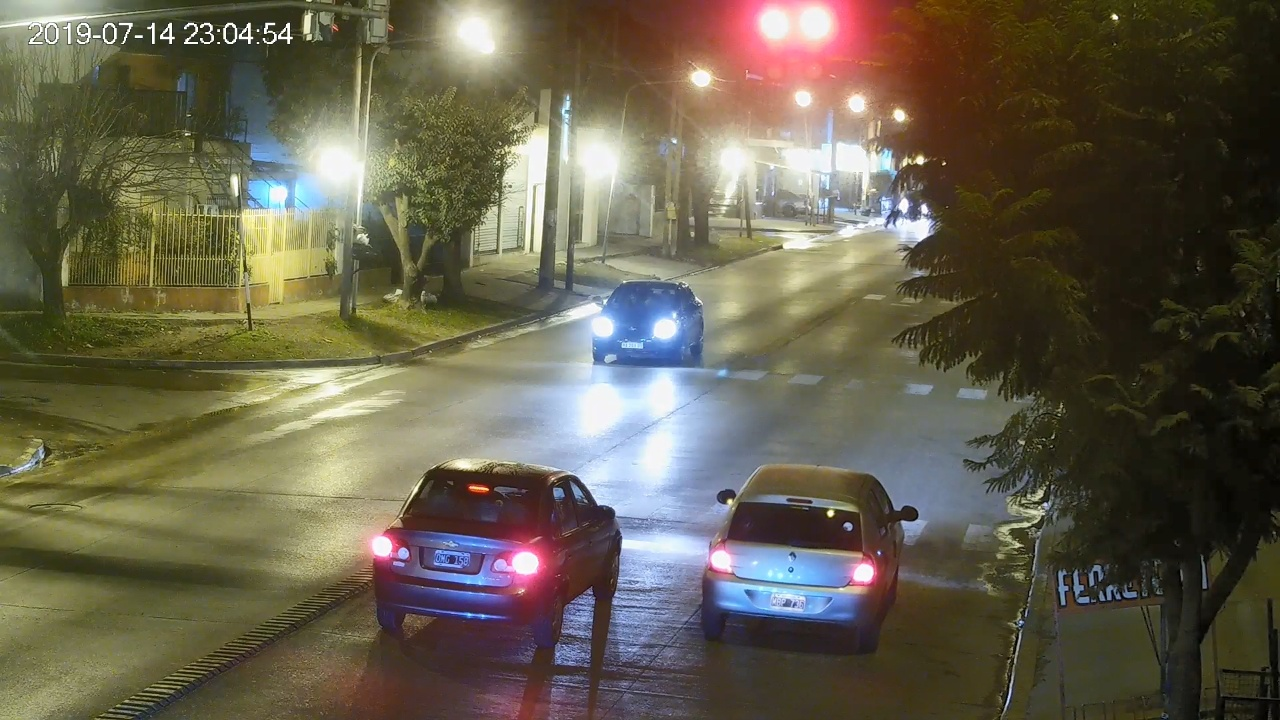car: (372, 459, 622, 646), (702, 465, 919, 656)
front car: (592, 280, 704, 363)
traffic light: (800, 9, 830, 83), (763, 8, 789, 81)
